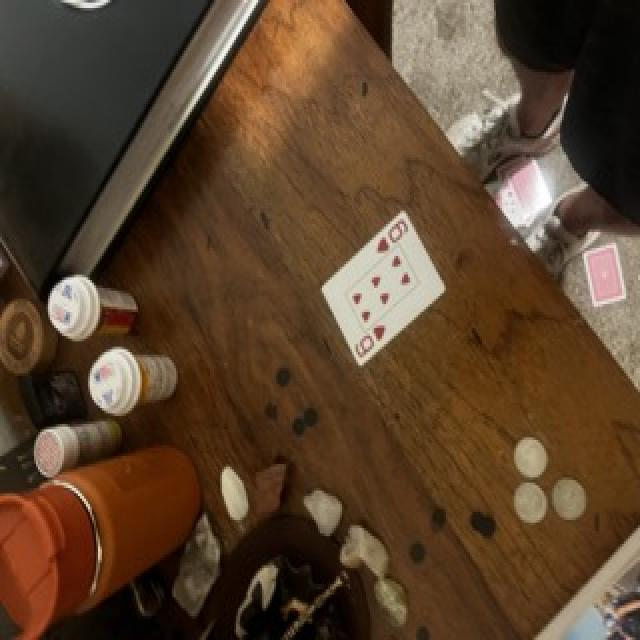6 of hearts: (322, 210, 445, 365)
